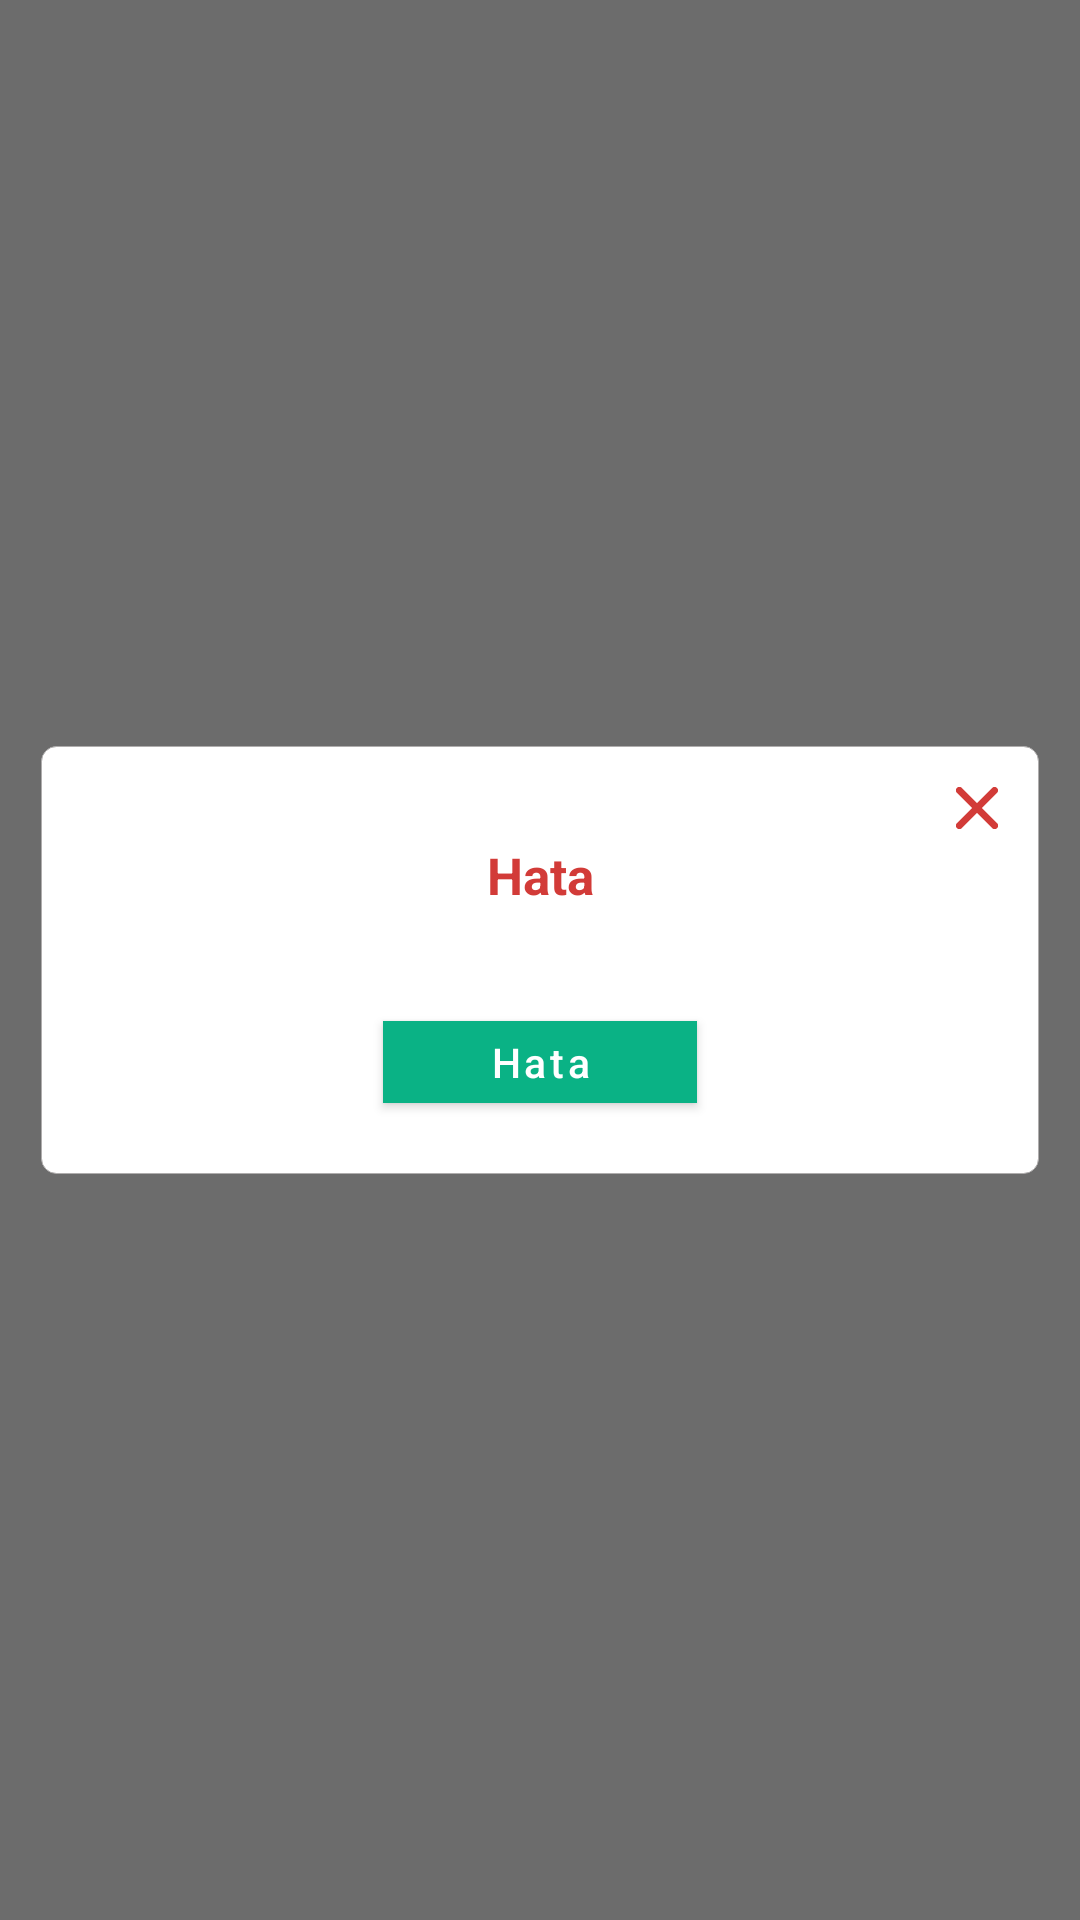

Icons on this 1080x1920 Android screen, each with the point to tap as [x,y]:
close: [977,808]
